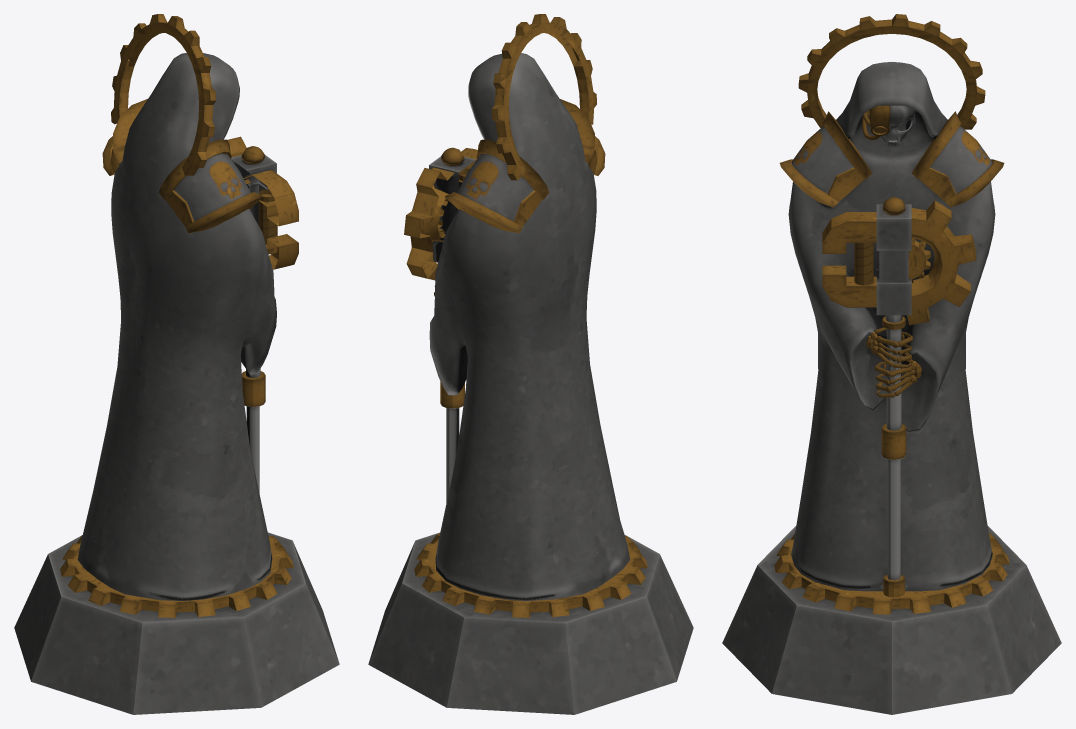
Rendered from Statue.fbx.
The picture shows the model from 3 angles, left to right: view 1: azimuth 30°, elevation 25°; view 2: azimuth 150°, elevation 25°; view 3: azimuth 270°, elevation 25°; orthographic projection.
Visible parts, largest first — view 1: BaseGorda; view 2: BaseGorda; view 3: BaseGorda.
Boxes of the visible parts, <box> form: BaseGorda: <box>14,14,339,714</box>; BaseGorda: <box>368,14,693,714</box>; BaseGorda: <box>722,14,1061,714</box>.
Bounding box in the file's own units: 7311 × 14968 × 7311.
